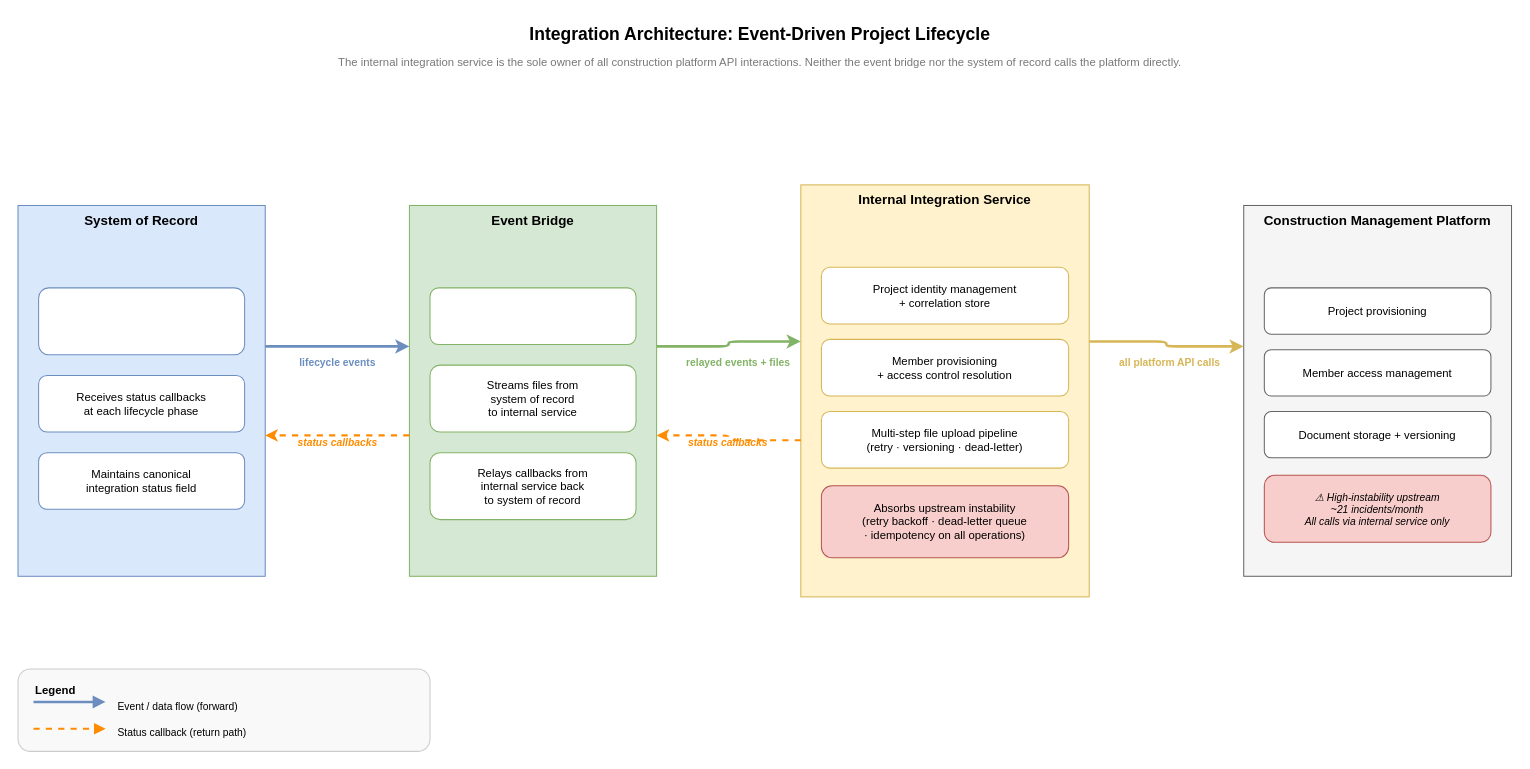
This 1530x769 diagram has some shape labels left out. Each missing label, with the centre of its shape:
Publishes lifecycle events (project created, file changed, project sold): point (141, 321)
Relays lifecycle events to internal service: point (532, 316)
